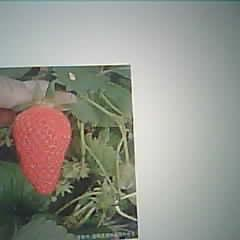straw-ripe: (14, 104, 72, 194)
